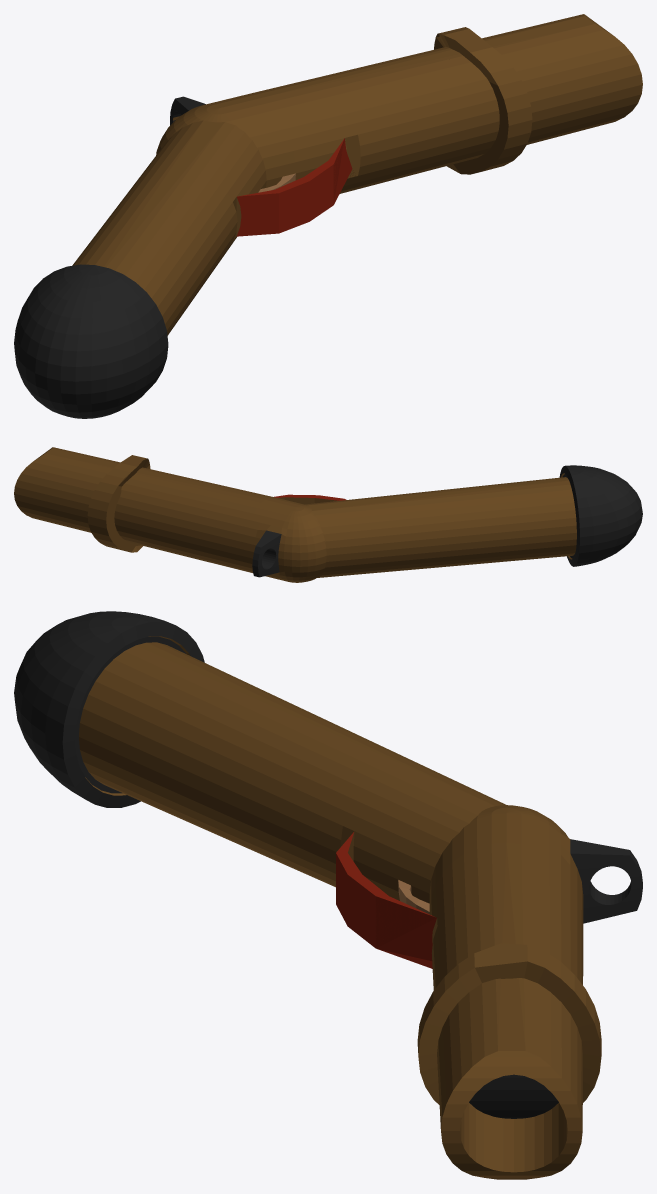
File: Pistola3D.fbx
The picture shows the model from 3 angles, top to bottom: view 1: azimuth 30°, elevation 25°; view 2: azimuth 150°, elevation 25°; view 3: azimuth 270°, elevation 25°; orthographic projection. The views are drawn at different scales.
Visible parts, largest first — view 1: Pistola; view 2: Pistola; view 3: Pistola.
Boxes of the visible parts, box(x1,y1,x2,y2) form: Pistola: box(14, 14, 642, 418); Pistola: box(14, 447, 642, 582); Pistola: box(14, 611, 642, 1179).
Bounding box in the file's own units: 890 × 158 × 504.
Materials: 1 (1 with a texture image).
